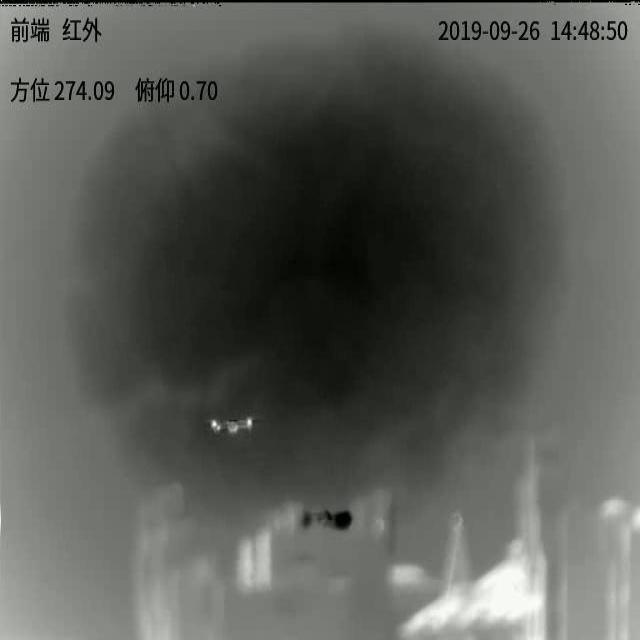drone: (210, 416, 253, 433)
